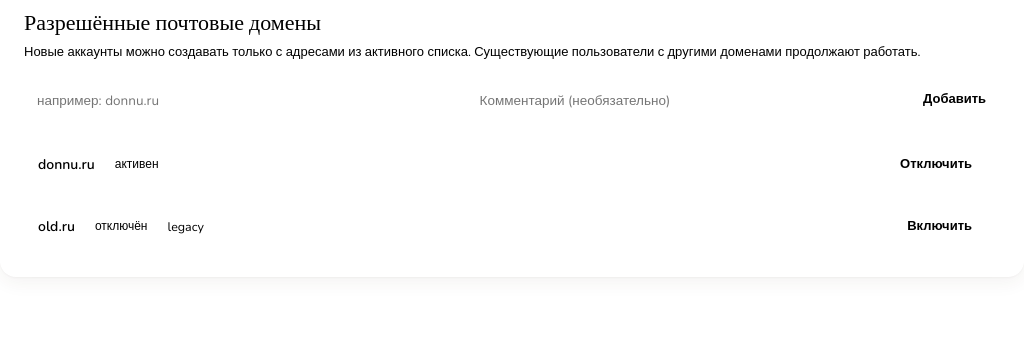
Test: empty domain add shows inline error, no request
Expected: the text "donnu.ru" is shown, [38, 155, 95, 174]
Click the button "Добавить" at (954, 99), box [909, 82, 1000, 116]
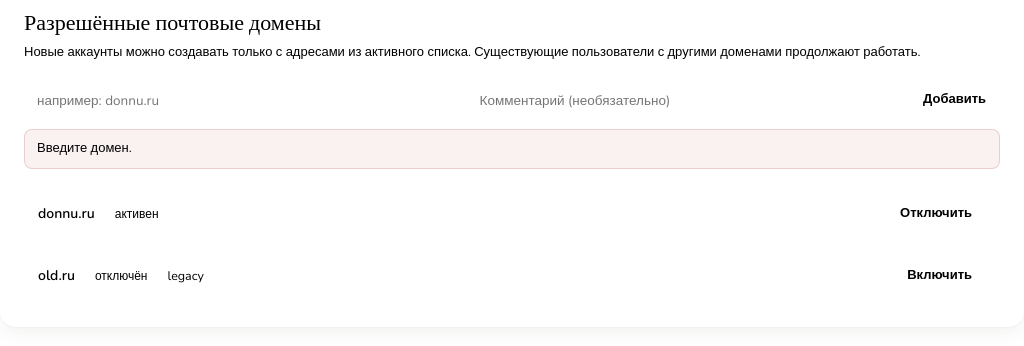
Expected: the text "Введите домен." is shown, [24, 129, 1000, 169]
